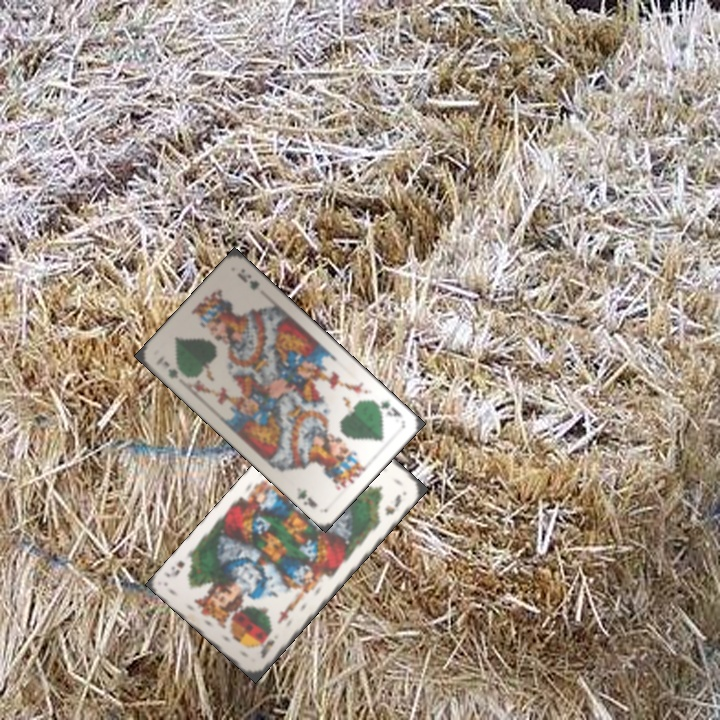GK: (369, 396, 404, 420), (160, 357, 181, 381)
SK: (256, 636, 277, 661)
